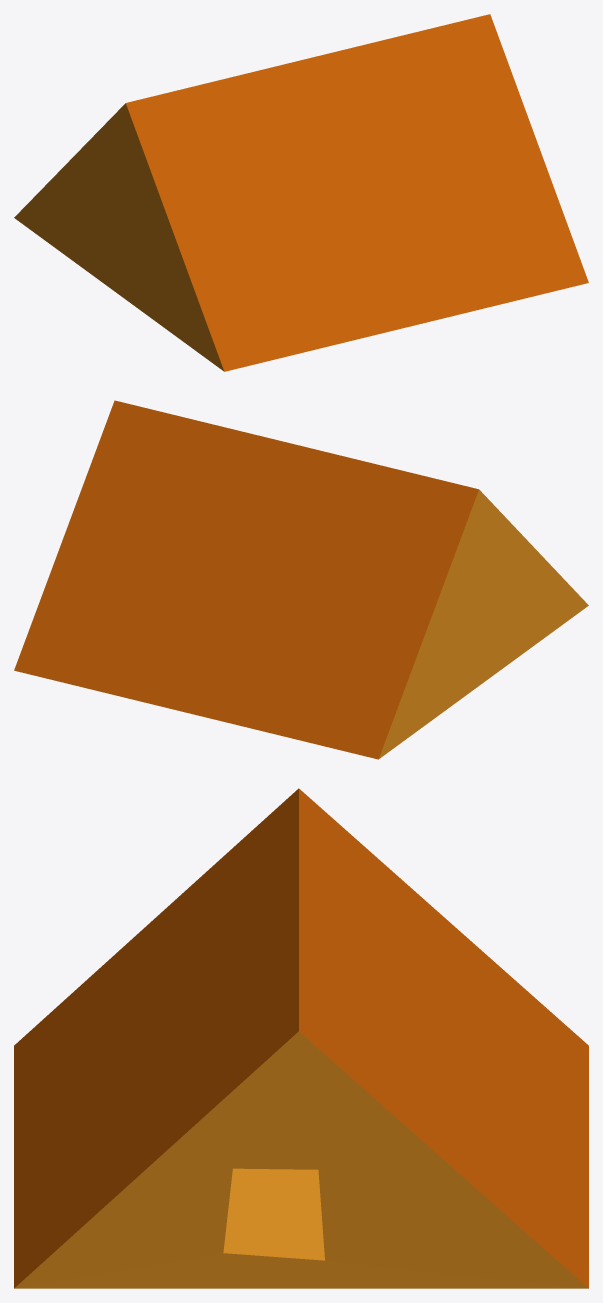
Rendered from dak.fbx.
The picture shows the model from 3 angles, top to bottom: view 1: azimuth 30°, elevation 25°; view 2: azimuth 150°, elevation 25°; view 3: azimuth 270°, elevation 25°; orthographic projection. The views are drawn at different scales.
Parts seen in each view (by area): view 1: Cube; view 2: Cube; view 3: Cube.
Boxes of the visible parts, x1,y1,x2,y2 form: Cube: (14,14,588,371); Cube: (14,400,588,759); Cube: (14,788,588,1288).
Size of the model in its own units: 203 by 100 by 200.
1 material, 1 textured.
